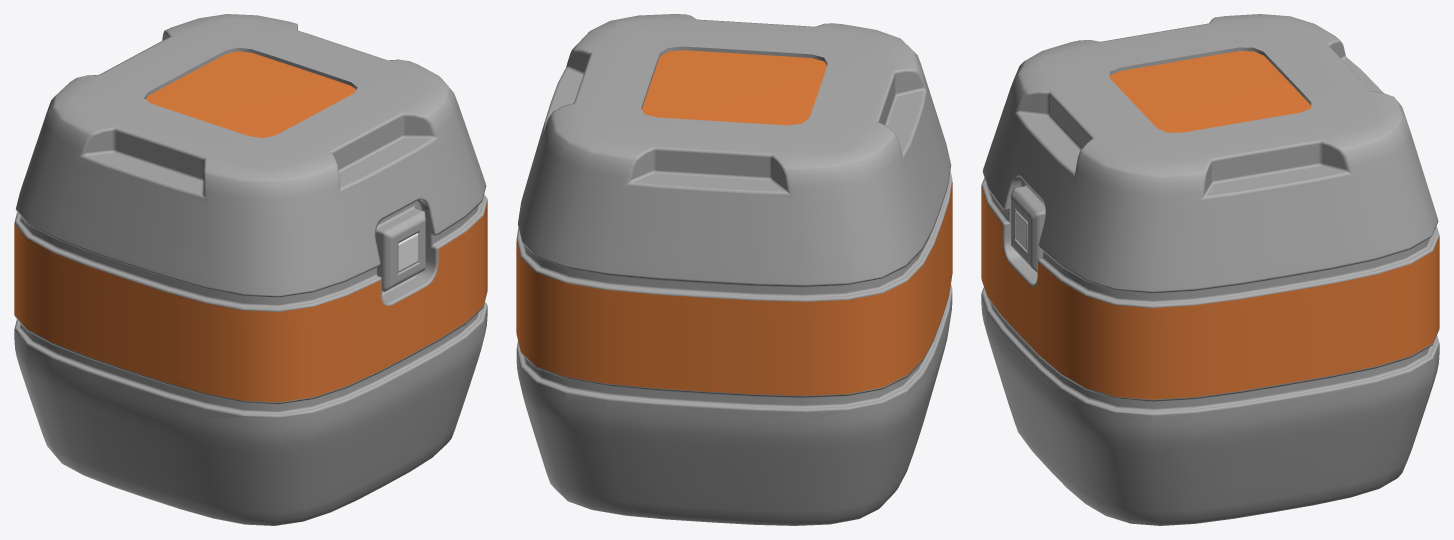
Rendered from Crate.fbx.
3 views of the same model, side by side, from view 1: azimuth 30°, elevation 25°; view 2: azimuth 150°, elevation 25°; view 3: azimuth 270°, elevation 25° (orthographic). The views are drawn at different scales.
Parts seen in each view (by area): view 1: Crate.002; view 2: Crate.002; view 3: Crate.002.
Boxes of the visible parts, left/top/right/bottom form: Crate.002: left=14, top=14, right=487, bottom=525; Crate.002: left=516, top=14, right=952, bottom=525; Crate.002: left=981, top=14, right=1439, bottom=525.
Bounding box in the file's own units: 0.9786 × 0.852 × 0.9786.
